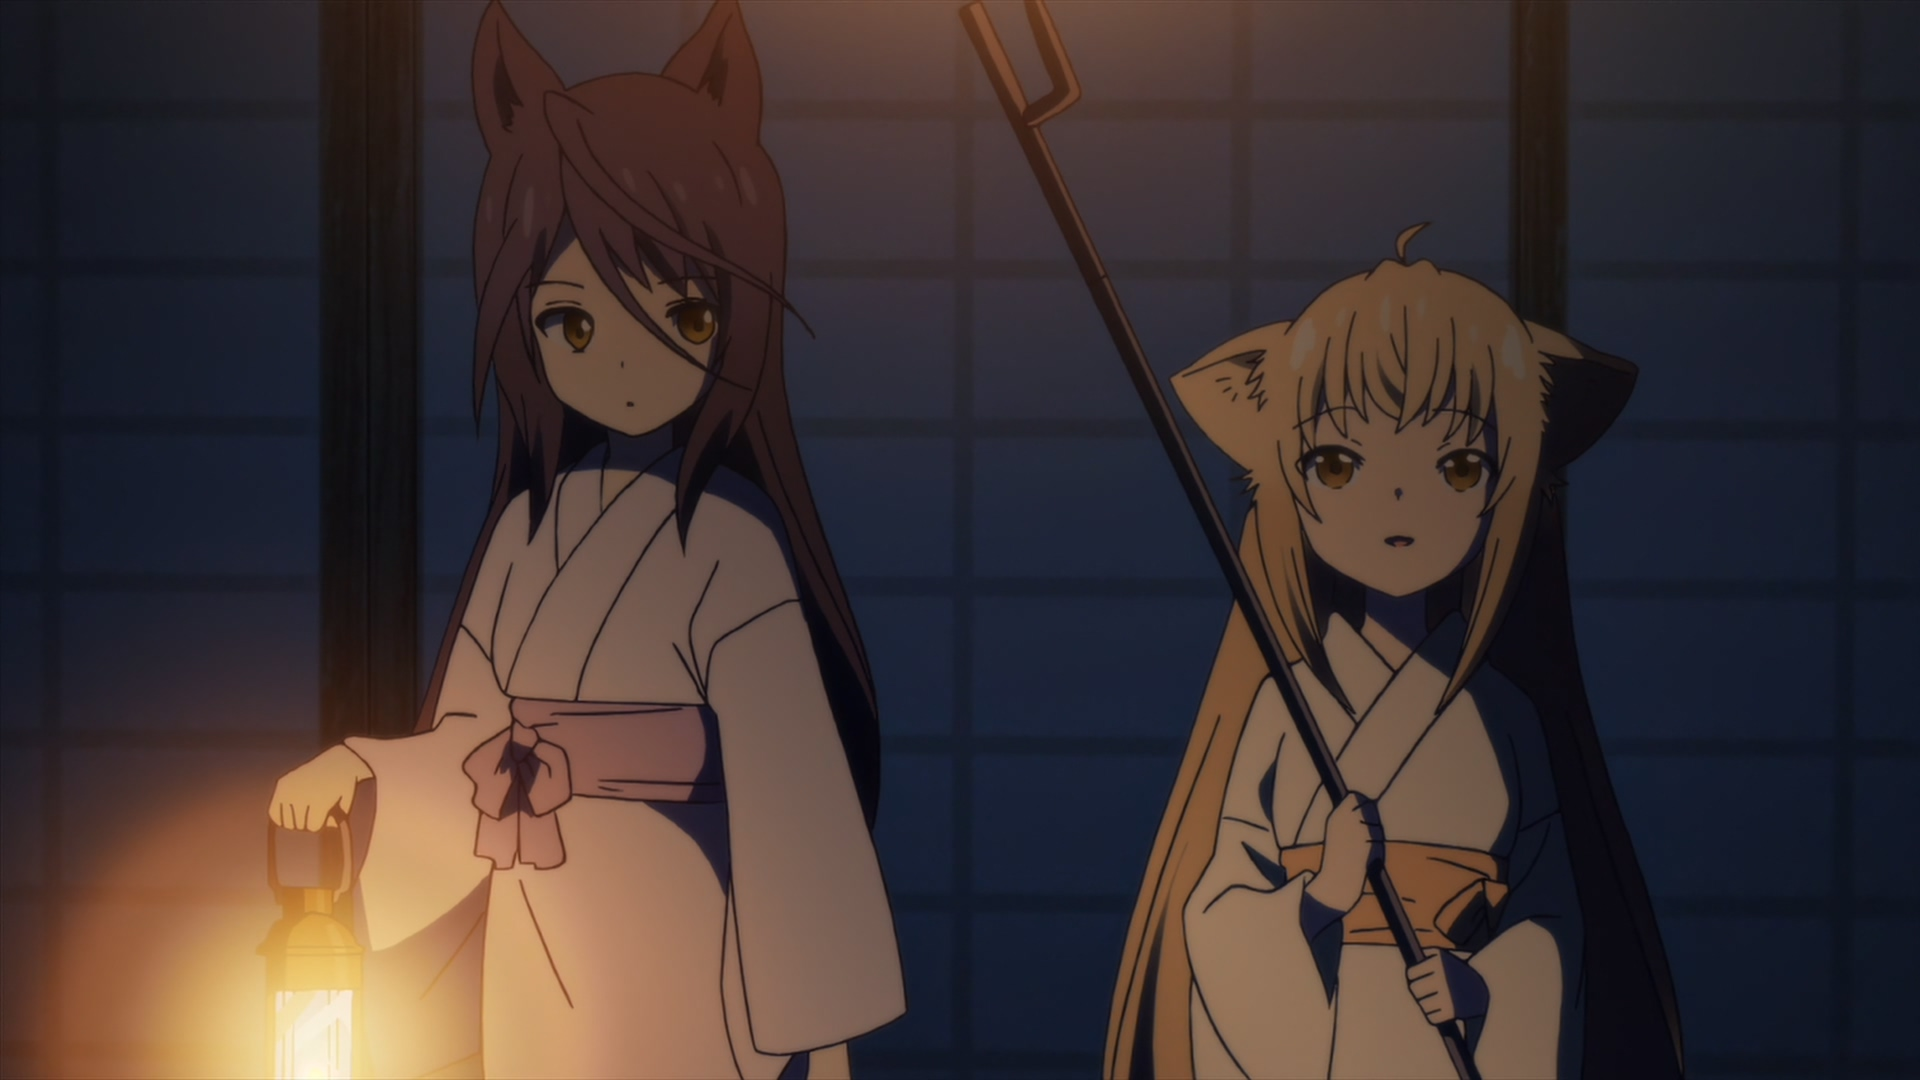柚: (1102, 222, 1681, 1080)
皋: (268, 1, 909, 1080)
